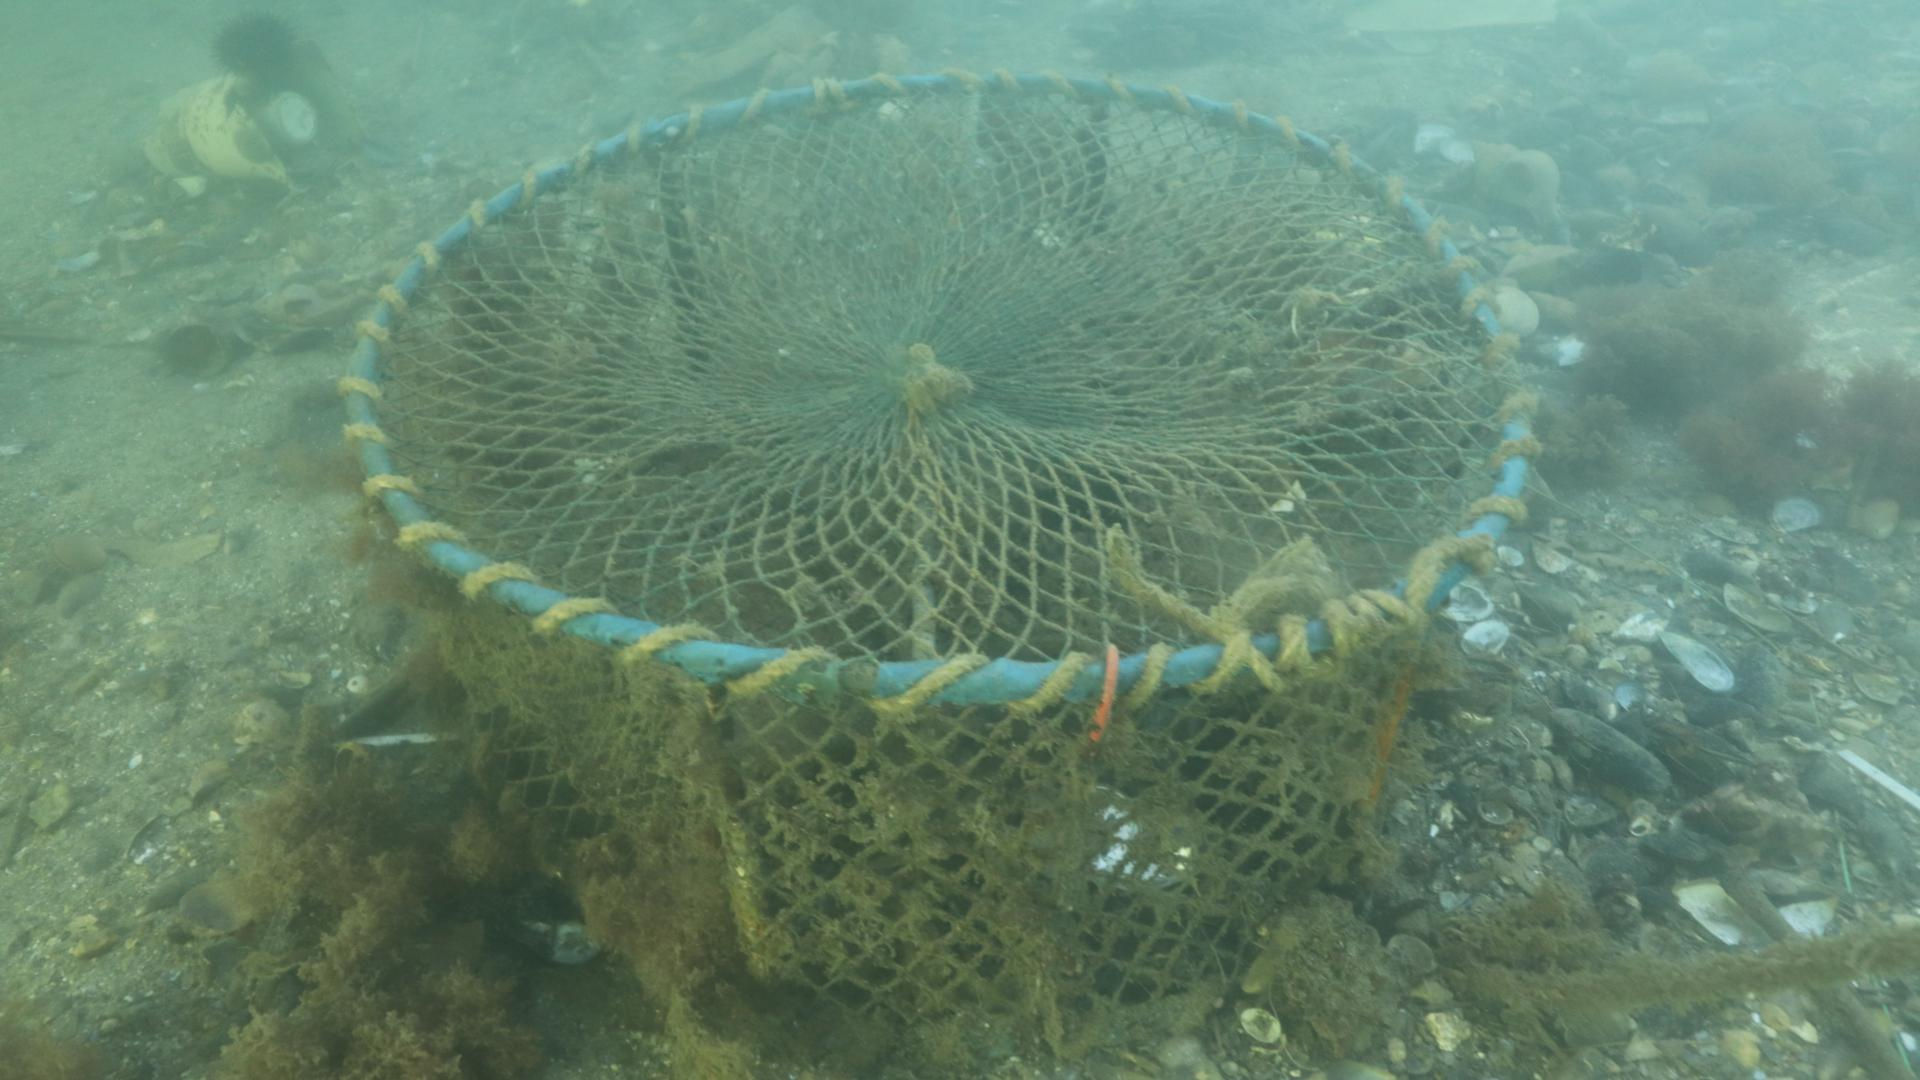circular fish trap: (339, 66, 1543, 1030)
